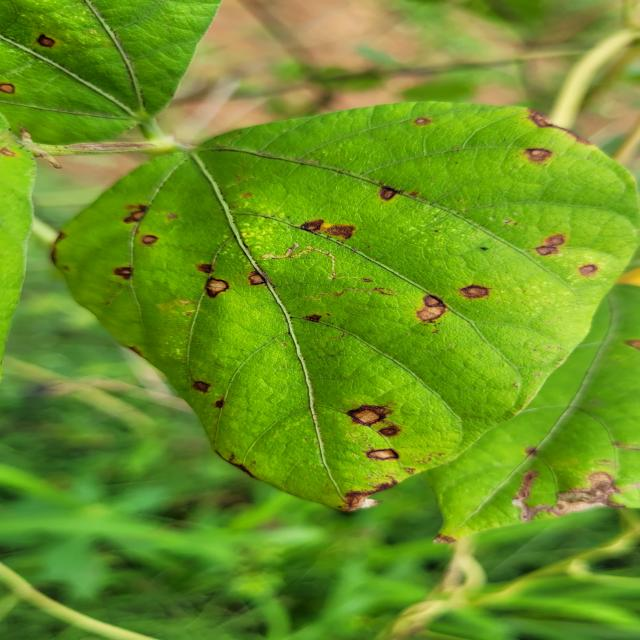Dolicos bean_cercospora leaf spot: (48, 98, 640, 515)
